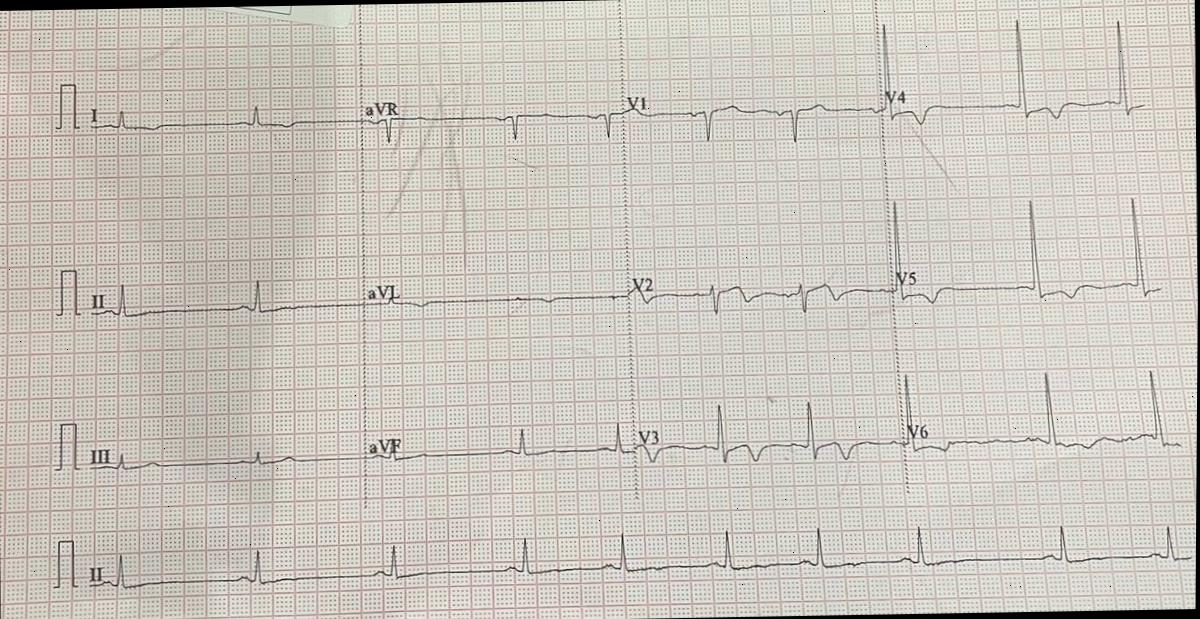Lead_I: (84, 86, 365, 156)
Lead_II: (86, 267, 364, 336)
Lead_III: (85, 421, 370, 490)
Lead_II_ext: (86, 518, 1197, 595)
Lead_V1: (622, 71, 882, 152)
Lead_V2: (629, 248, 893, 324)
Lead_V3: (633, 388, 904, 488)
Lead_V4: (871, 5, 1153, 144)
Lead_V5: (885, 184, 1177, 322)
Lead_V6: (897, 353, 1194, 480)
Lead_aVF: (369, 412, 639, 478)
Lead_aVL: (360, 255, 629, 321)
Lead_aVR: (364, 85, 627, 165)
